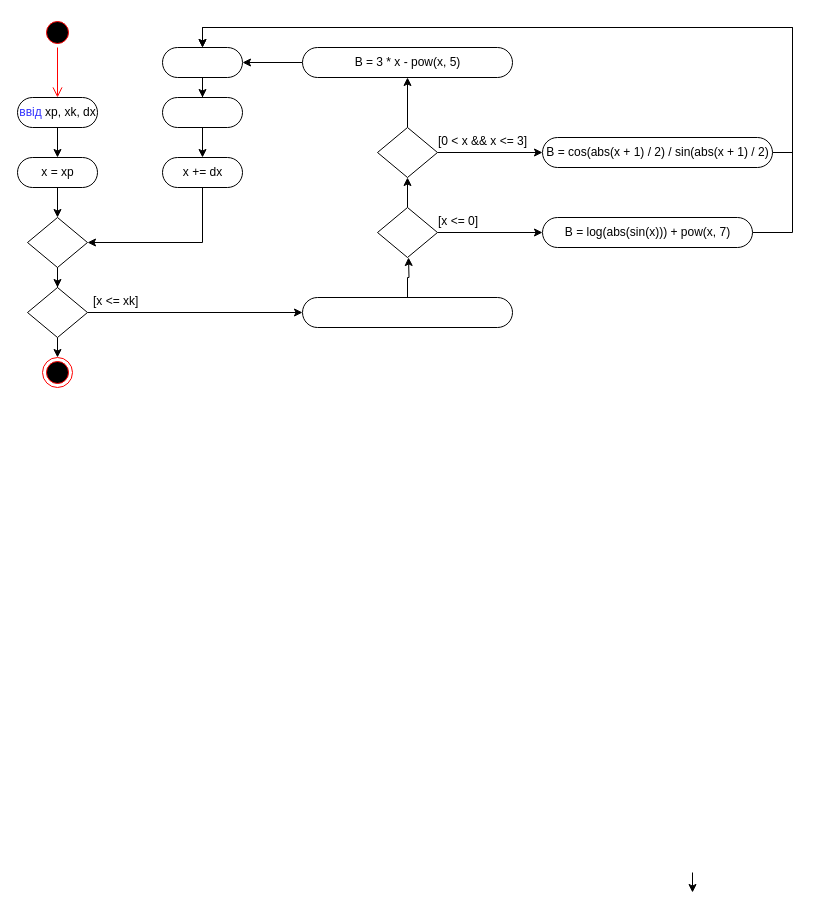
The diagram is 818 pixels wide and 918 high, and some of its shapes have lost their labels. The centre of each missing label's shape, as x and y in pixels:
"A = 1+ 9 * x" belongs at (x=407, y=312).
"y = A + B" belongs at (x=202, y=62).
"вивід x, y" belongs at (x=202, y=112).
